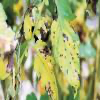Tomato leaf bacterial spot: (52, 17, 80, 95), (32, 40, 57, 99)
